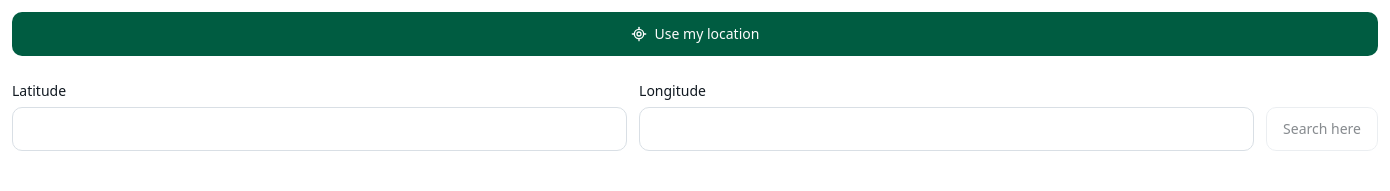
Test: LocationPicker › locationPicker_withoutGeolocationSupport_explainsAndFallsBack
Step 1. Click the button "Use my location" → point(695, 34), box [12, 12, 1378, 56]
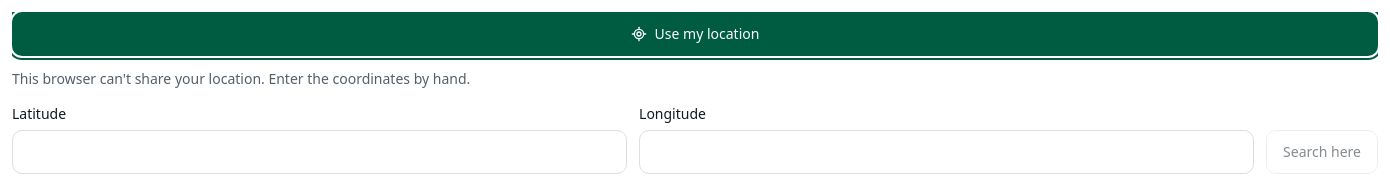
Result: the text "This browser can't share your location. Enter the coordinates by hand." is shown at [12, 69, 470, 88]
